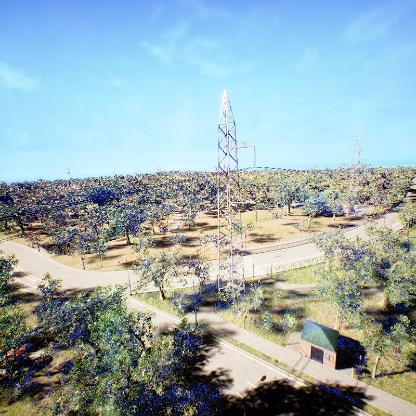tower: (194, 89, 260, 315)
